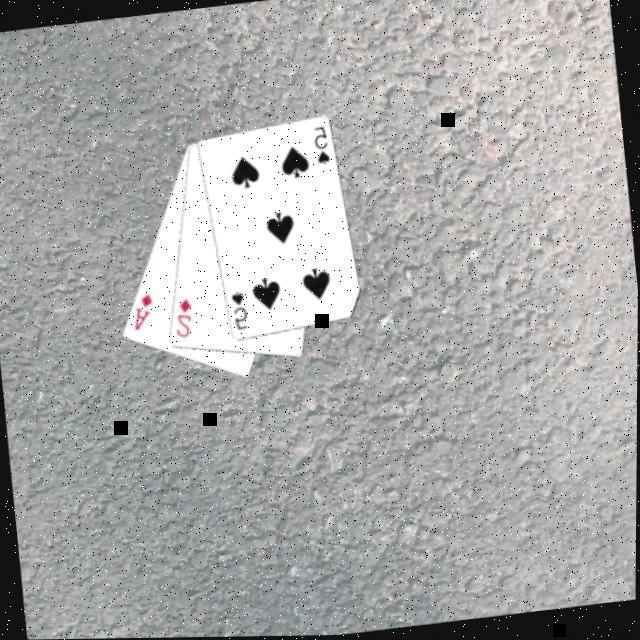2D: (169, 297, 195, 343)
5S: (227, 290, 251, 336), (308, 125, 331, 171)
AD: (127, 292, 157, 336)
